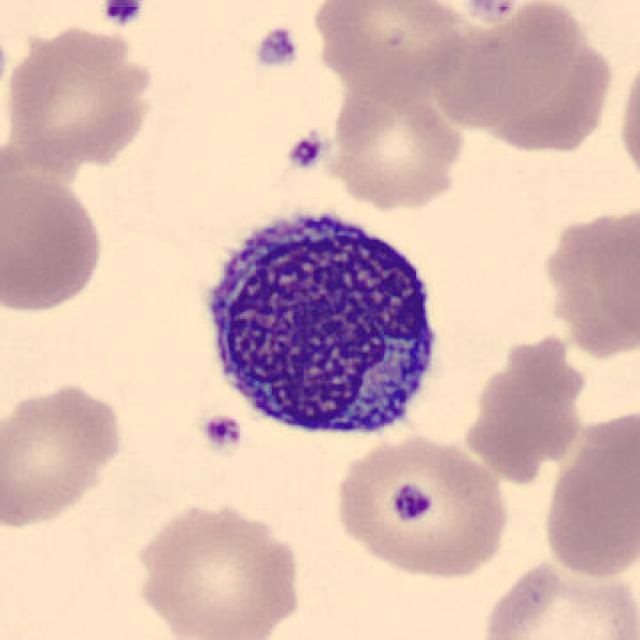Monocyte: (188, 196, 454, 450)
Platelets: (251, 23, 302, 72), (198, 409, 245, 457), (389, 481, 434, 526), (283, 128, 327, 172), (462, 0, 523, 25), (98, 0, 148, 30)
RBC: (434, 0, 618, 159), (327, 430, 514, 582), (128, 497, 306, 638), (0, 19, 160, 171), (0, 378, 130, 532), (324, 78, 469, 214), (461, 334, 592, 484), (537, 400, 638, 584), (307, 0, 472, 102), (0, 164, 107, 317), (543, 210, 640, 373), (476, 552, 636, 640), (613, 39, 640, 197)
